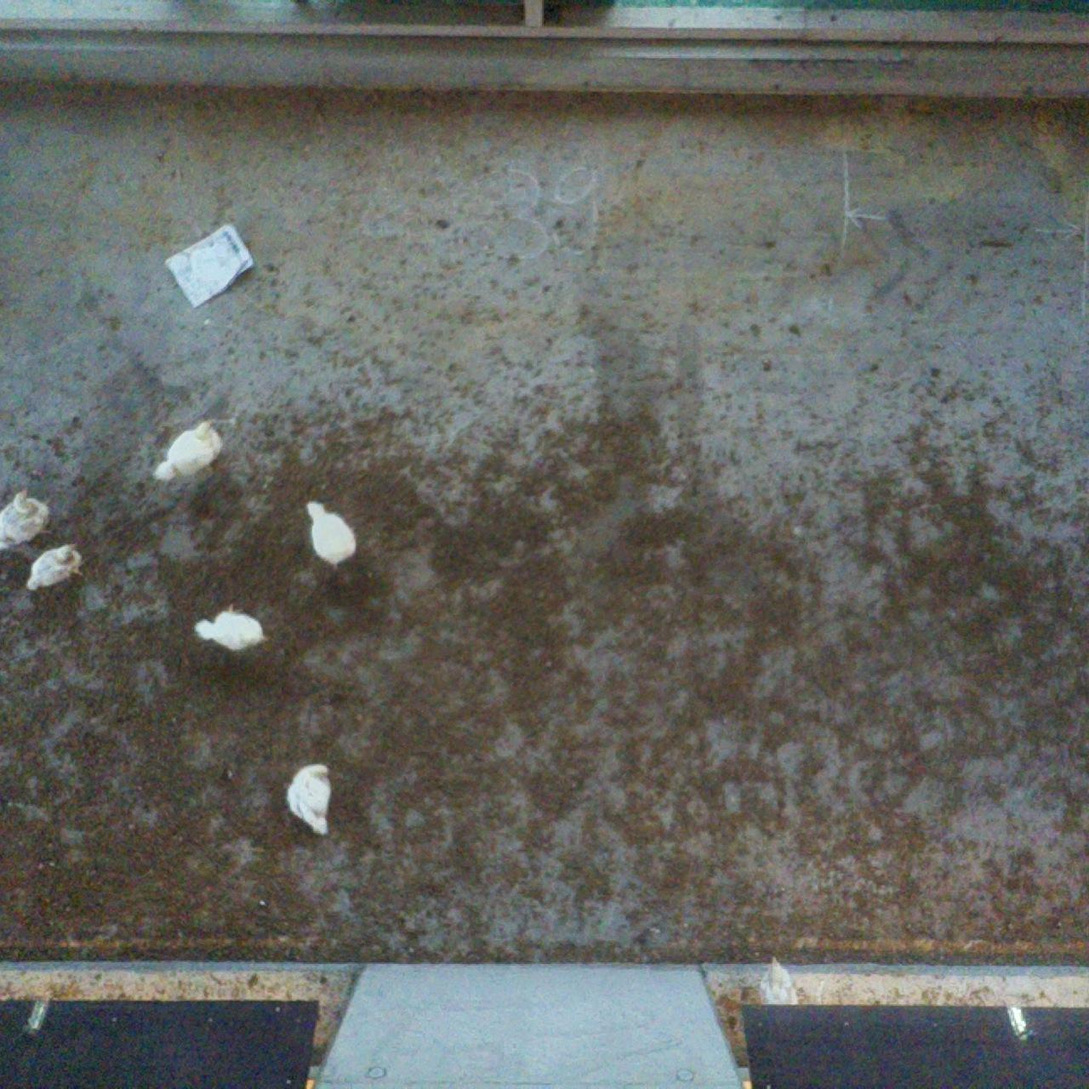chicken: (151, 419, 225, 486), (191, 602, 270, 655), (305, 495, 361, 567), (0, 485, 53, 559), (286, 760, 335, 838), (25, 542, 88, 593)
